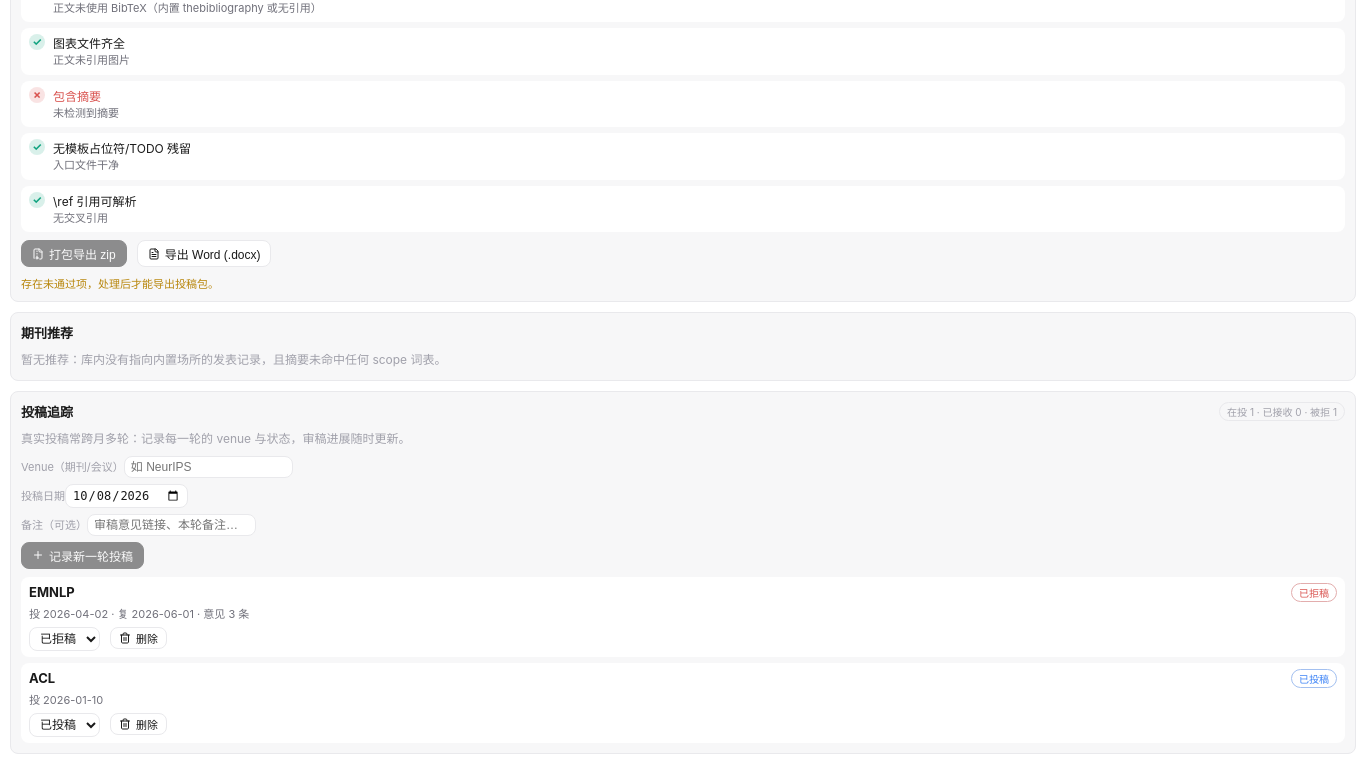
Test: SubmitPanel「投稿追踪」区（多轮投稿） › 删除：点一轮的「删除」→ 该轮移除，其余轮保留
The image size is (1366, 764).
(page scrolled)
Expected: the list item with class "sf-submit-rec" shows "EMNLP", [29, 584, 75, 600]
Expected: the list item with class "sf-submit-rec" shows "复 2026-06-01", [108, 607, 194, 621]
Click the button with aria-label "删除此轮投稿". click: x=138, y=638
box: [110, 627, 167, 649]
(page scrolled)
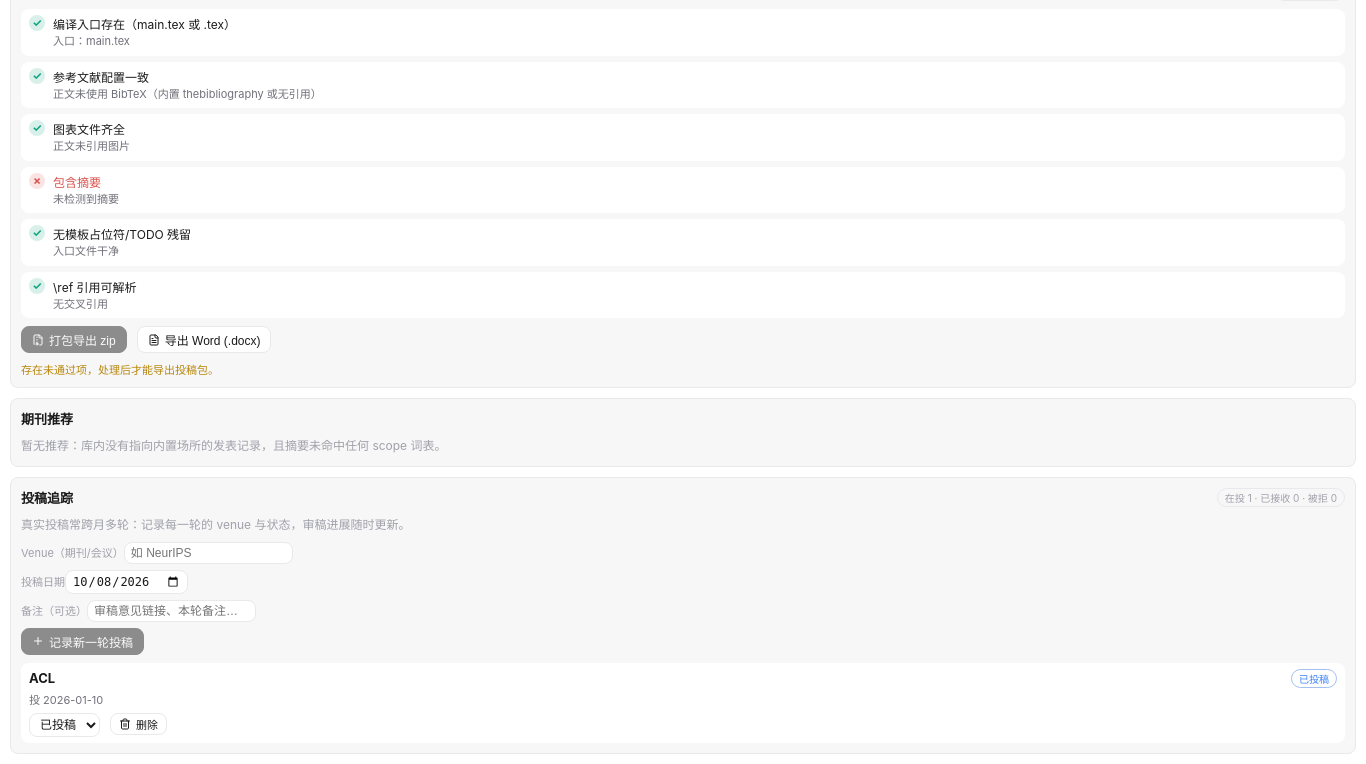
Expected: the text with class "sf-submit-card" no longer shows "EMNLP"
